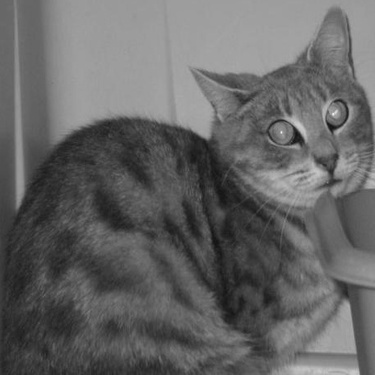cat: (1, 5, 370, 372)
